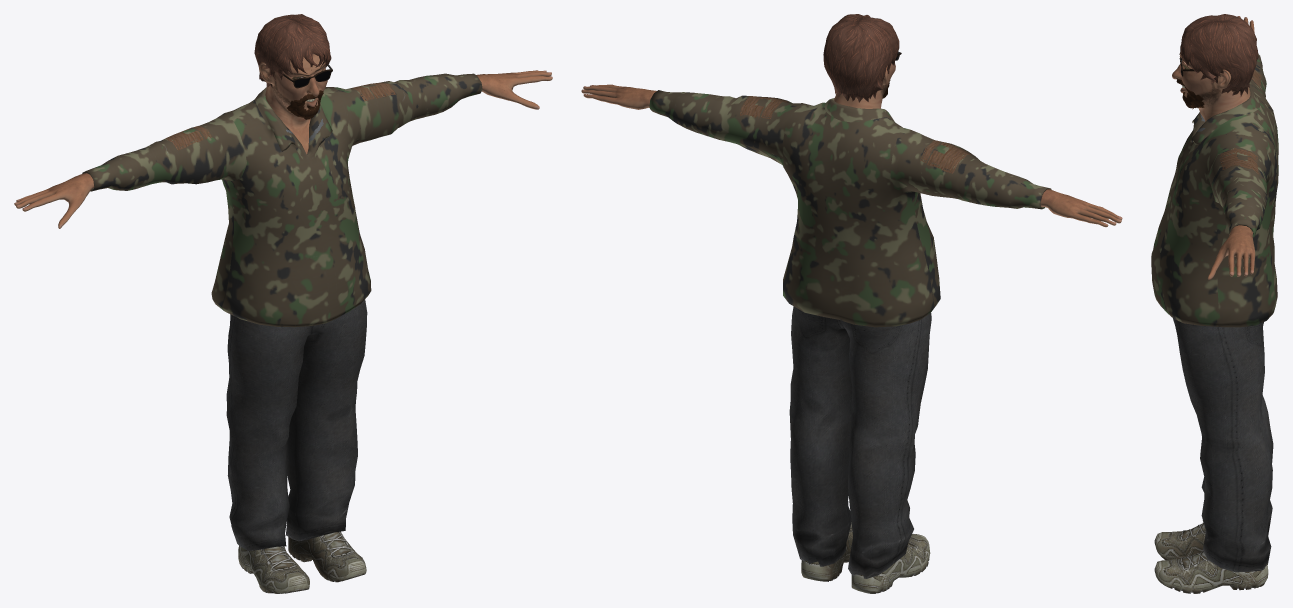
The model's file is NPC2.obj.
3 views of the same model, side by side, from view 1: azimuth 30°, elevation 25°; view 2: azimuth 150°, elevation 25°; view 3: azimuth 270°, elevation 25° (orthographic).
Visible parts, largest first — view 1: Tops, Bottoms, Body, Shoes, Hair; view 2: Tops, Bottoms, Hair, Body, Shoes; view 3: Tops, Bottoms, Hair, Shoes, Body, Beards.
Boxes of the visible parts, box(x1,y1,x2,y2) form: Tops: box(82, 73, 482, 327); Bottoms: box(226, 300, 367, 550); Body: box(14, 53, 552, 228); Shoes: box(238, 531, 366, 593); Hair: box(254, 14, 331, 88); Tops: box(649, 90, 1051, 327); Bottoms: box(789, 306, 931, 578); Hair: box(823, 14, 899, 102); Body: box(581, 63, 1122, 227); Shoes: box(801, 522, 930, 593); Tops: box(1151, 54, 1278, 327); Bottoms: box(1173, 318, 1273, 572); Hair: box(1179, 14, 1258, 96); Shoes: box(1154, 522, 1268, 593); Body: box(1172, 16, 1255, 279); Beards: box(1182, 92, 1204, 109).
Bounding box in the file's own units: 185 × 181 × 38.01.
Materials: 8 (8 with a texture image).
